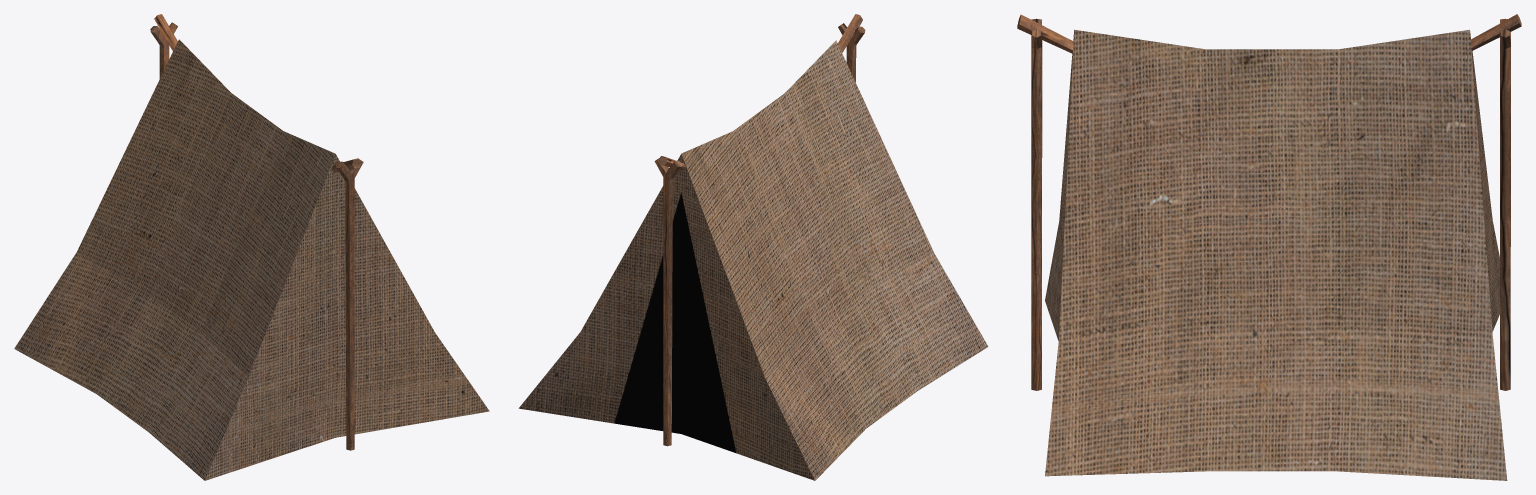
File: Tent.fbx
3 views of the same model, side by side, from view 1: azimuth 30°, elevation 25°; view 2: azimuth 150°, elevation 25°; view 3: azimuth 270°, elevation 25° (orthographic). The views are drawn at different scales.
Visible parts, largest first — view 1: Tent; view 2: Tent; view 3: Tent.
Part boxes in pixels (x1,y1,x2,y2): Tent: (14, 14, 489, 480); Tent: (518, 14, 988, 480); Tent: (1017, 14, 1521, 480).
Size of the model in its own units: 31.33 by 29.4 by 36.06.
1 material, 1 textured.
